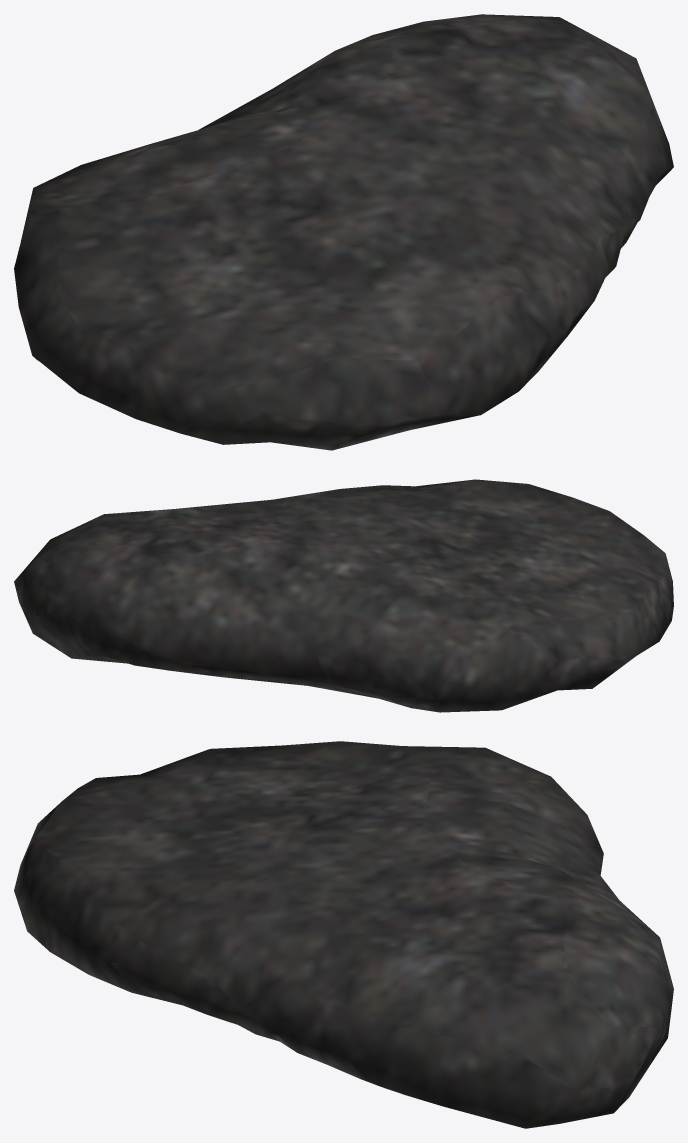
The model's file is rock 11.glb.
3 views of the same model, one above another, from view 1: azimuth 30°, elevation 25°; view 2: azimuth 150°, elevation 25°; view 3: azimuth 270°, elevation 25° (orthographic). The views are drawn at different scales.
Visible parts, largest first — view 1: AR11; view 2: AR11; view 3: AR11.
Part boxes in pixels (x1,y1,x2,y2): AR11: (14, 14, 673, 450); AR11: (14, 479, 673, 712); AR11: (14, 741, 673, 1128).
Bounding box in the file's own units: 11.05 × 2.19 × 9.12.
1 material, 1 textured.
